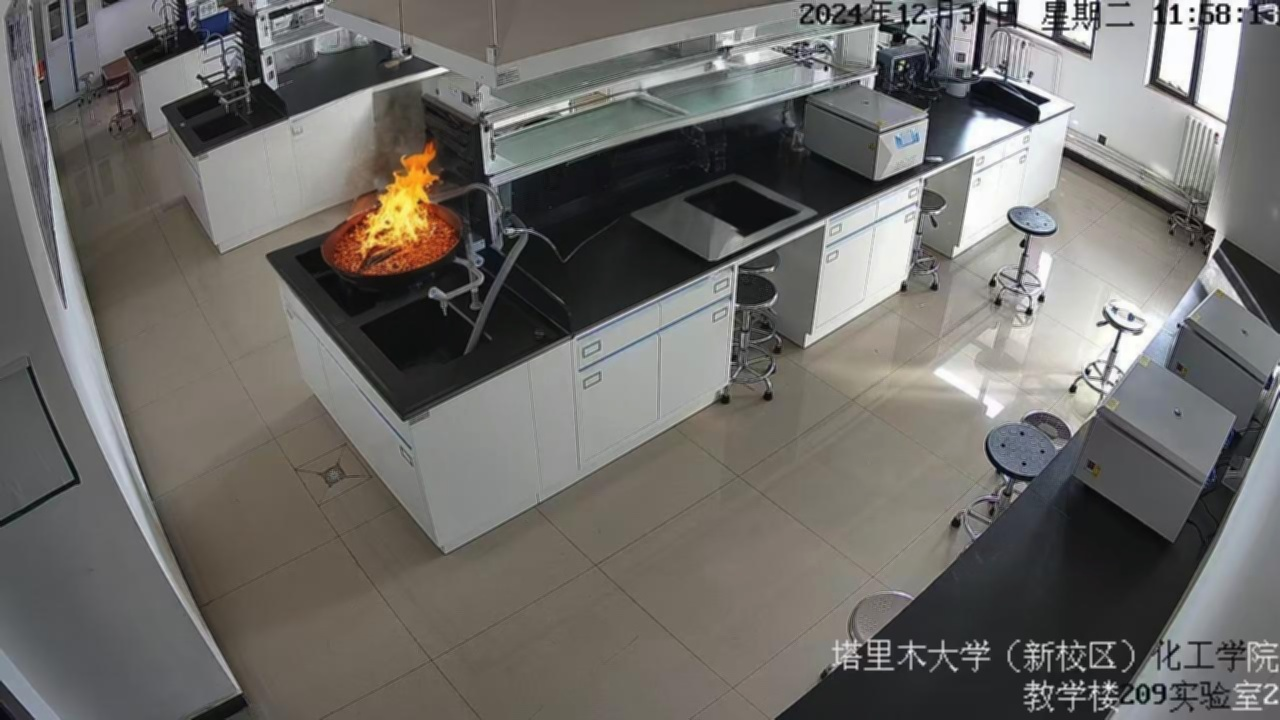fire: (348, 141, 455, 258)
